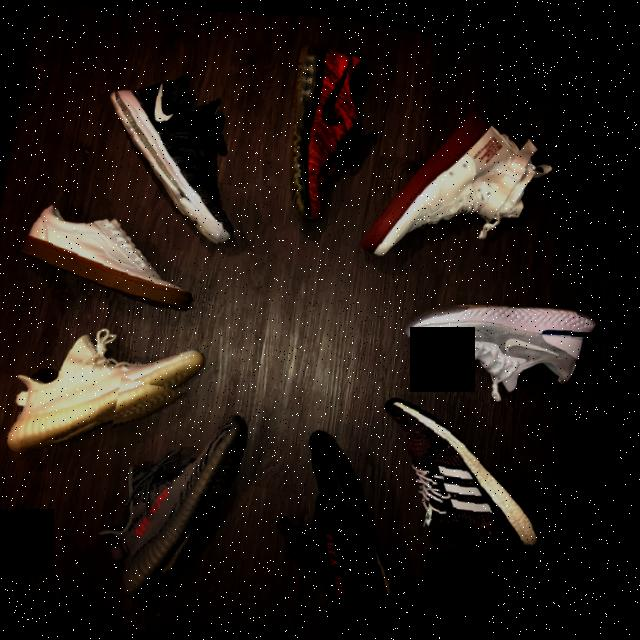shoe: (86, 375, 272, 626), (247, 408, 446, 640), (355, 376, 577, 582), (357, 89, 579, 291), (0, 307, 222, 491), (81, 49, 278, 248), (394, 265, 617, 414), (262, 28, 405, 240), (9, 179, 227, 313)
